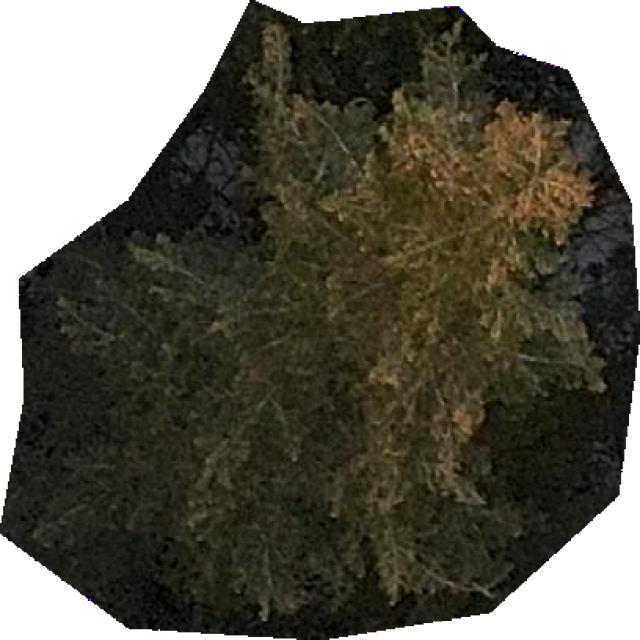spruce: (0, 0, 638, 638)
